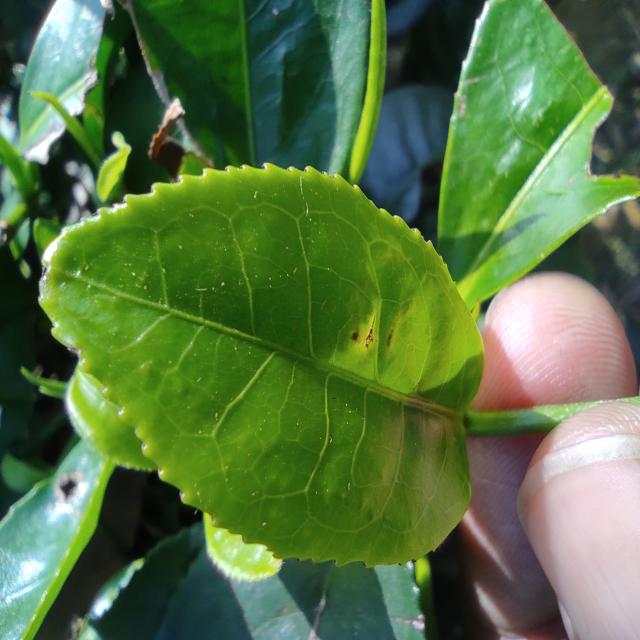Category C(4-7 days): (19, 132, 502, 602)
